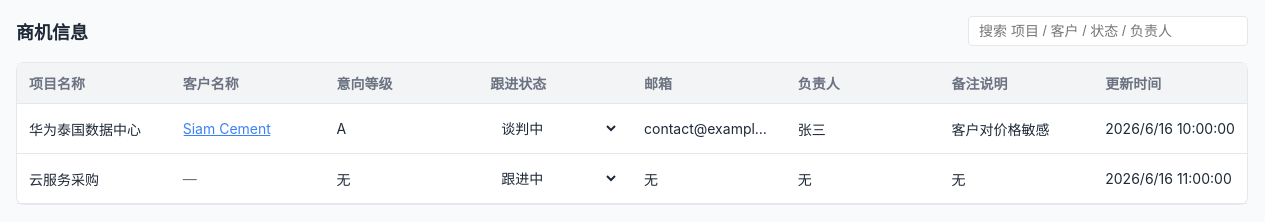
Test: ProjectList › filters projects by customer_name via search input
Expected: the button "Siam Cement" is shown, [183,120,271,137]
In the search field with test id "search-input": x=1108, y=31 [968,16,1248,46], type "siam"
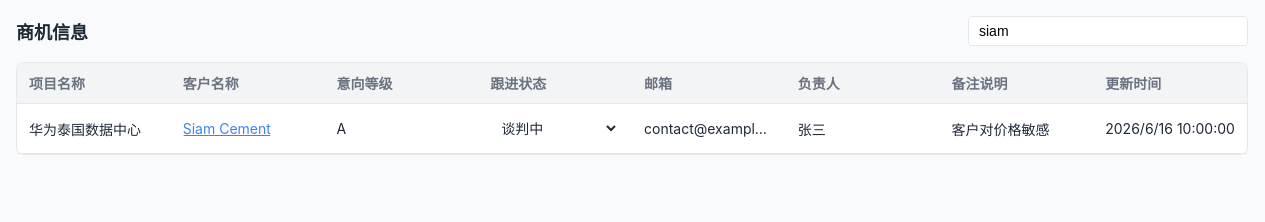
Expected: the text "华为泰国数据中心" is shown, [17,104,171,154]
Result: the text "云服务采购" is gone
